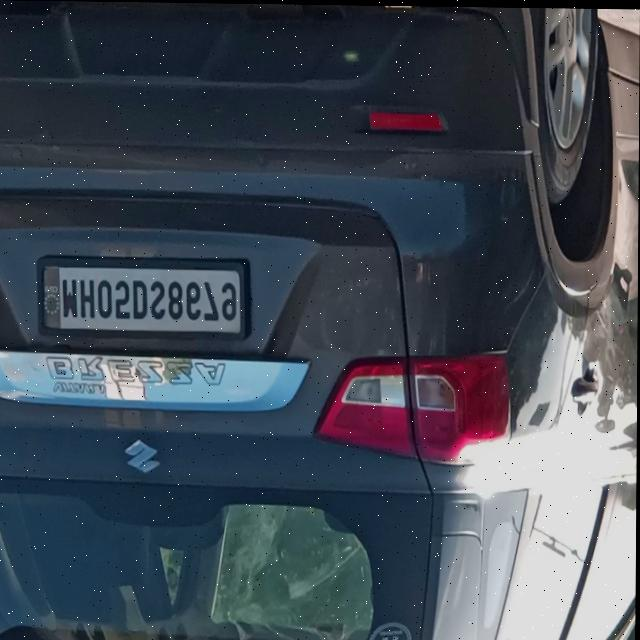plate: (42, 258, 253, 338)
